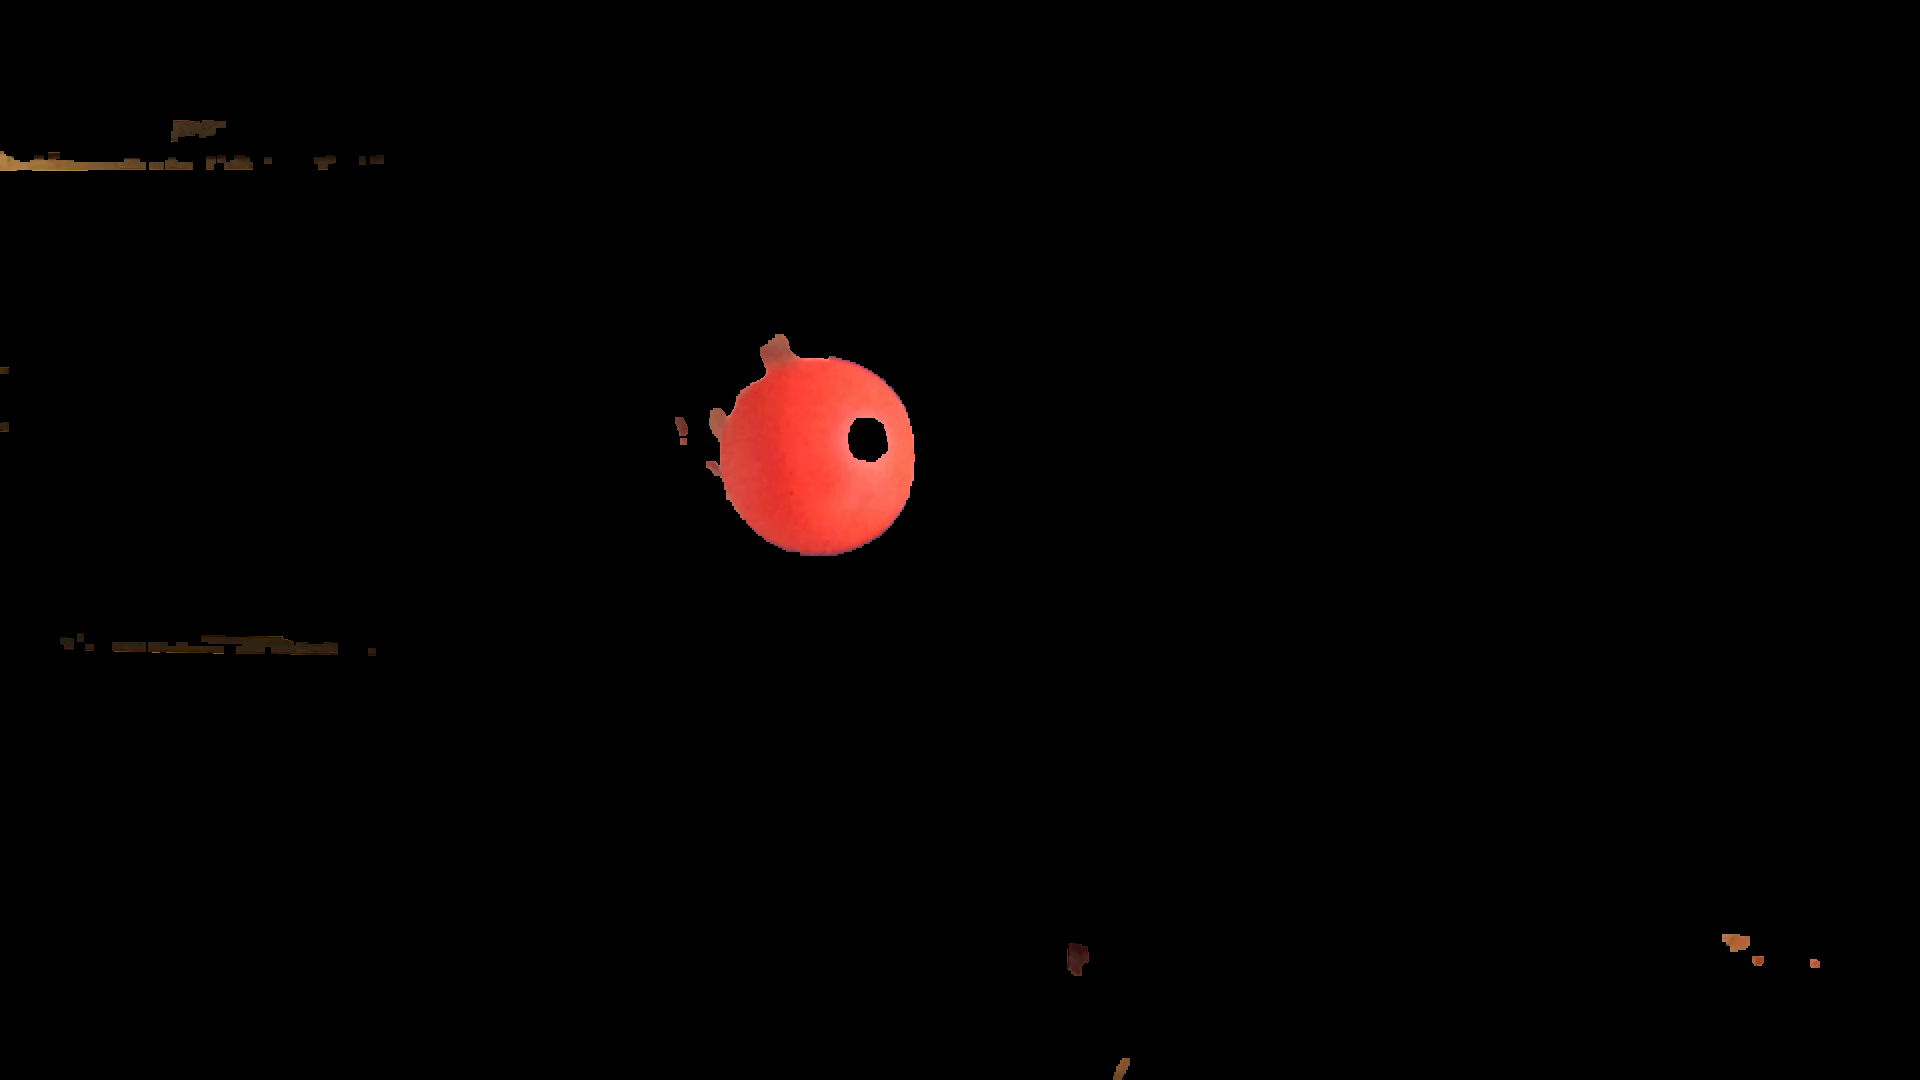Ball: (727, 357, 913, 553)
